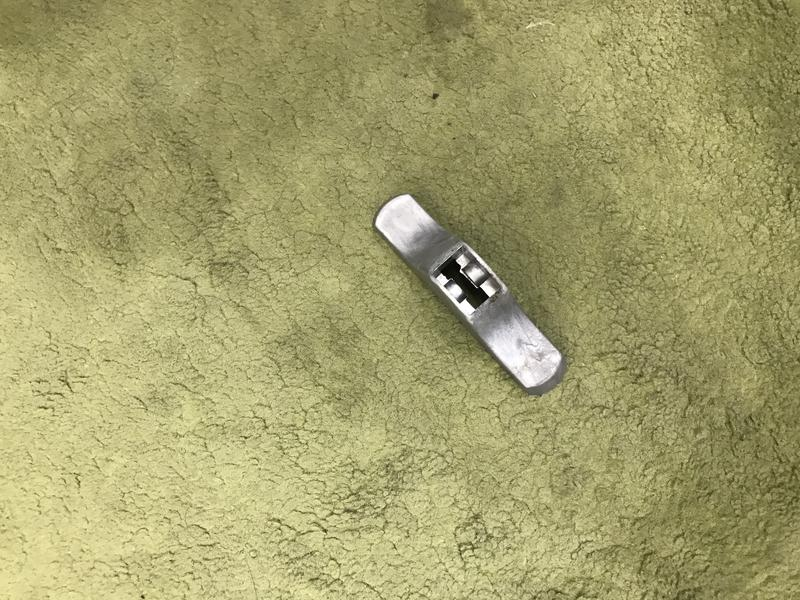zapchast: (365, 183, 580, 410)
